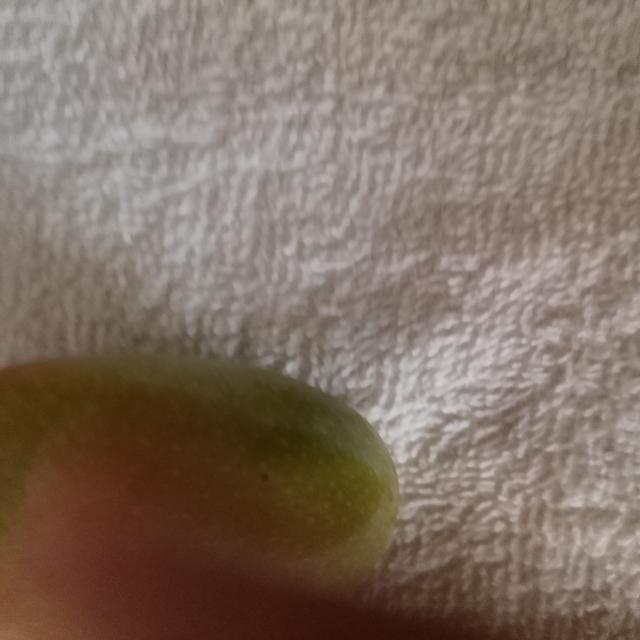mango: (8, 349, 404, 639)
